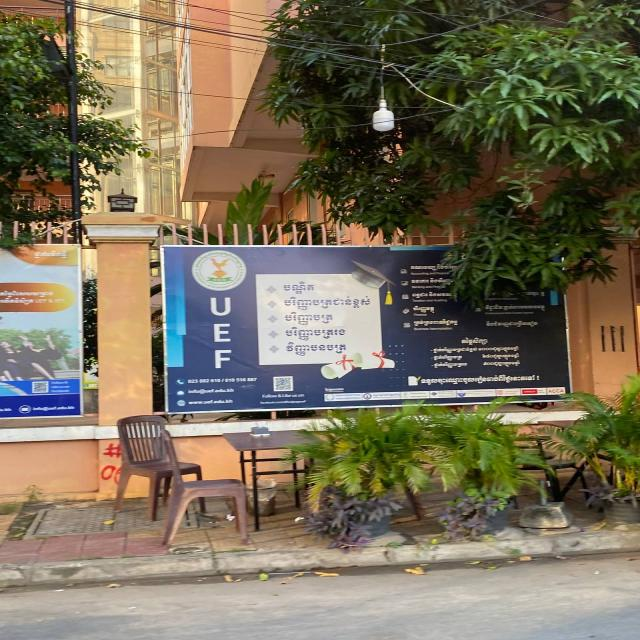Yolov11_80vkh: (283, 294, 371, 312), (285, 342, 350, 357), (283, 326, 347, 340), (283, 311, 335, 326), (278, 280, 317, 294)
